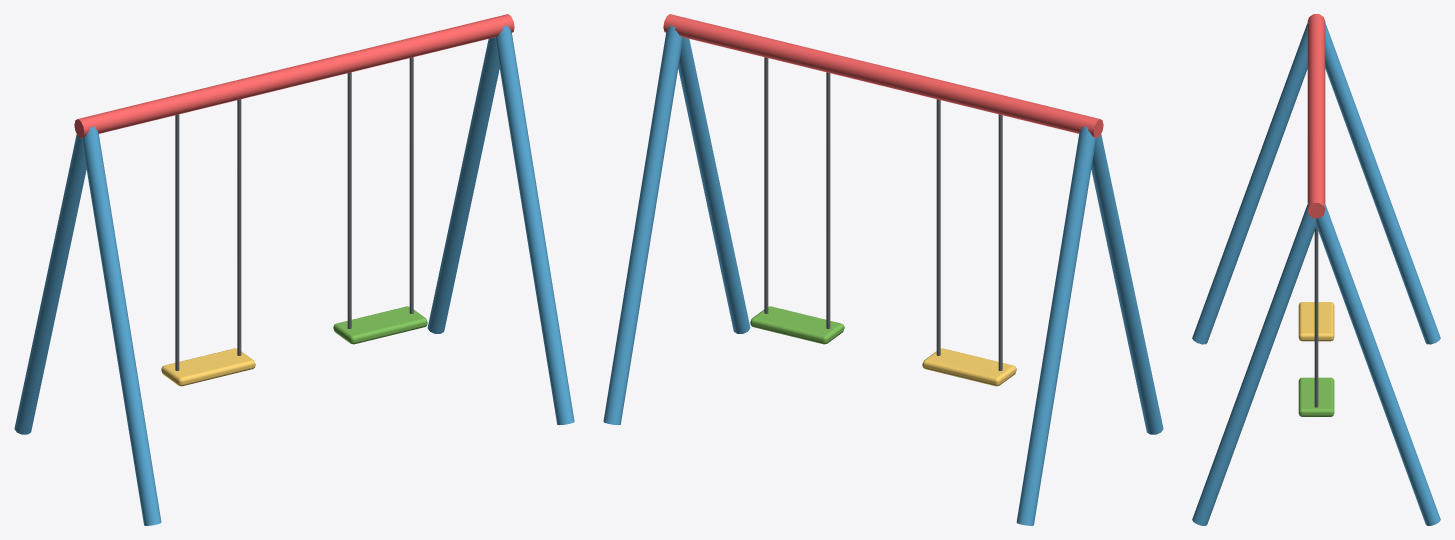
Rendered from kswing.glb.
The picture shows the model from 3 angles, left to right: view 1: azimuth 30°, elevation 25°; view 2: azimuth 150°, elevation 25°; view 3: azimuth 270°, elevation 25°; orthographic projection. The views are drawn at different scales.
Bounding box in the file's own units: 2.5 × 2 × 1.39.
